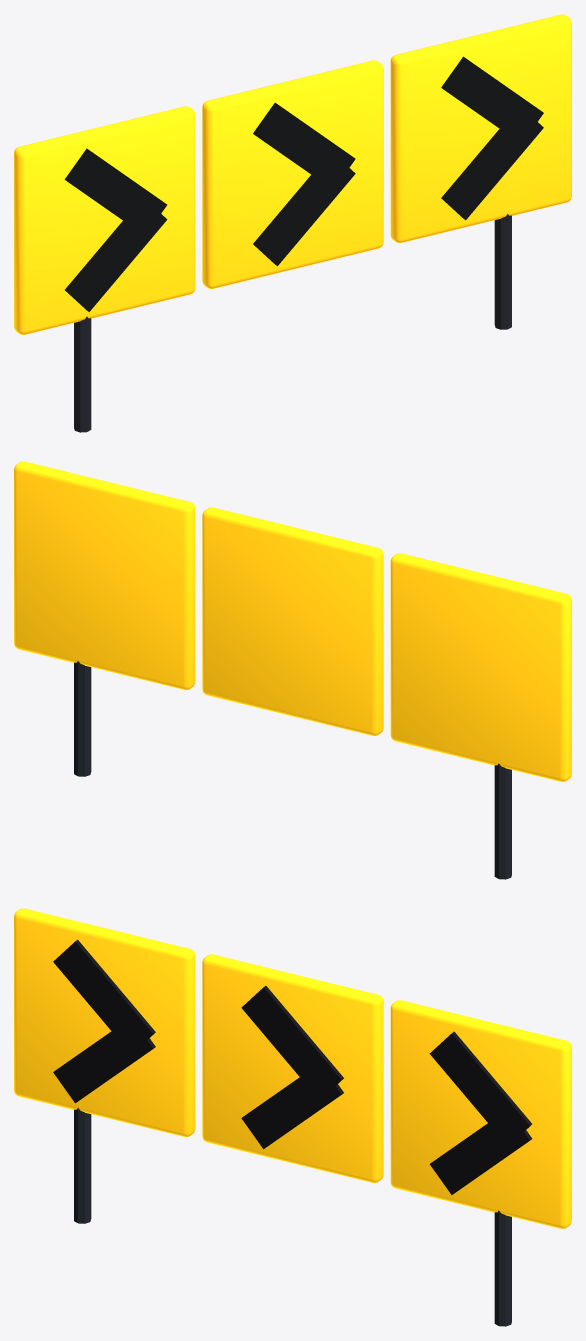
File: sign.glb
The picture shows the model from 3 angles, top to bottom: view 1: azimuth 30°, elevation 25°; view 2: azimuth 150°, elevation 25°; view 3: azimuth 330°, elevation 25°; orthographic projection.
Visible parts, largest first — view 1: Sign; view 2: Sign; view 3: Sign.
Boxes of the visible parts, x1,y1,x2,y2 form: Sign: (14,14,571,432); Sign: (14,461,571,879); Sign: (14,908,571,1326).
Bounding box in the file's own units: 5 × 2.55 × 0.18.
